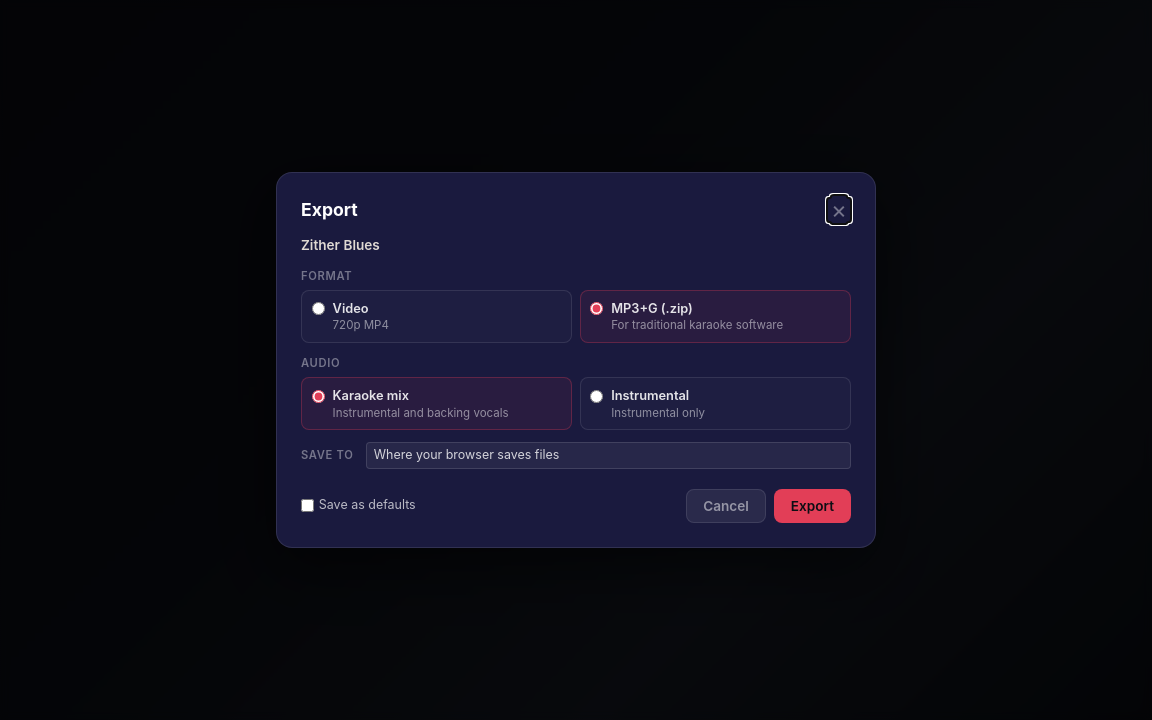
it: browser build › leaves stored defaults alone when the export fails
The image size is (1152, 720).
Click the radio button labelled "Instrumental Instrumental only" at (597, 396), box [590,390,603,402]
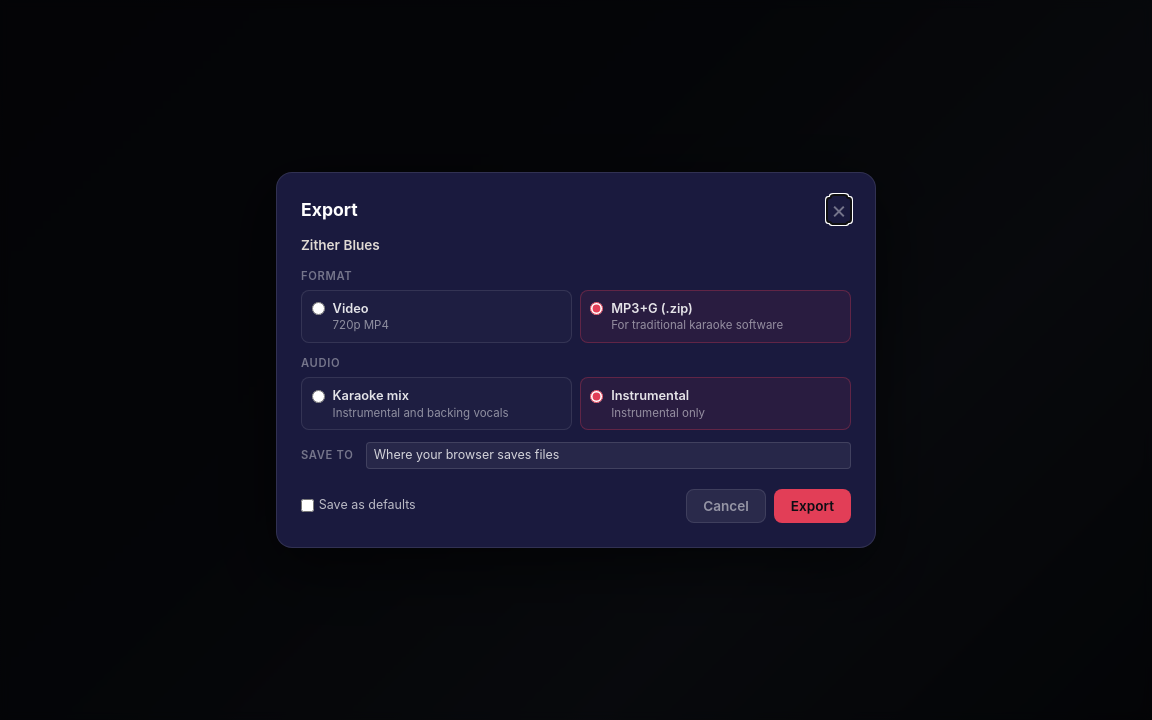
Click the checkbox labelled "Save as defaults" at (308, 506), box [301,499,314,512]
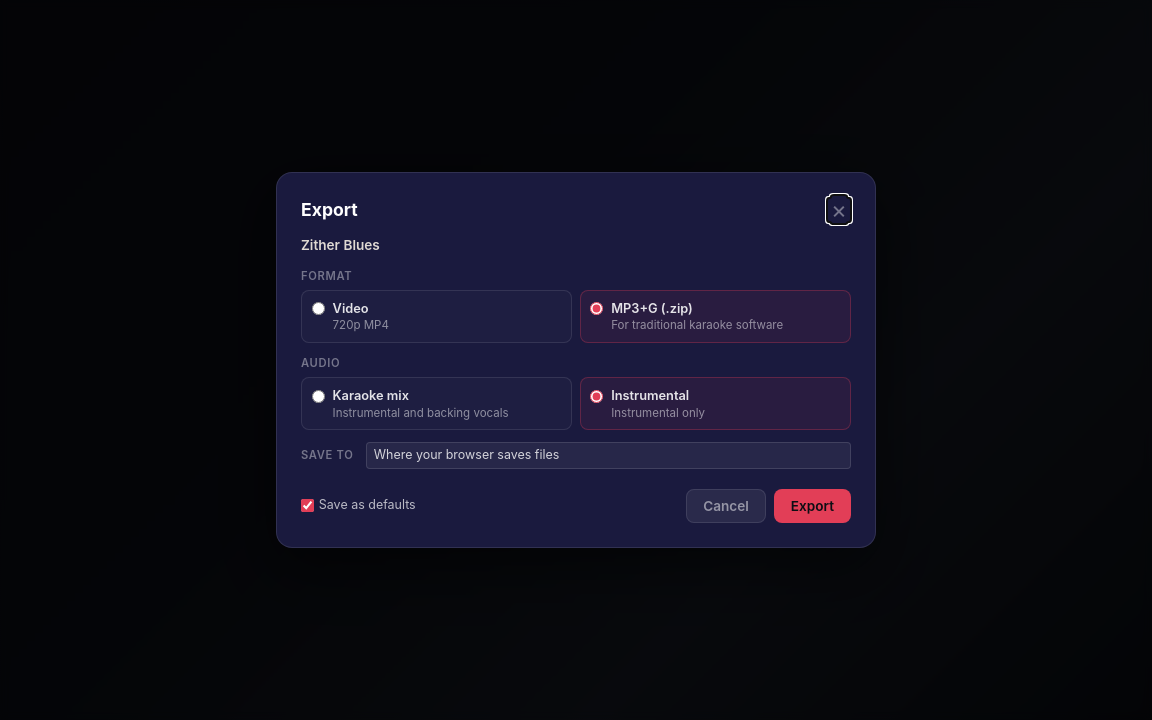
Click the button "Export" at (812, 506), box [774,489,851,523]
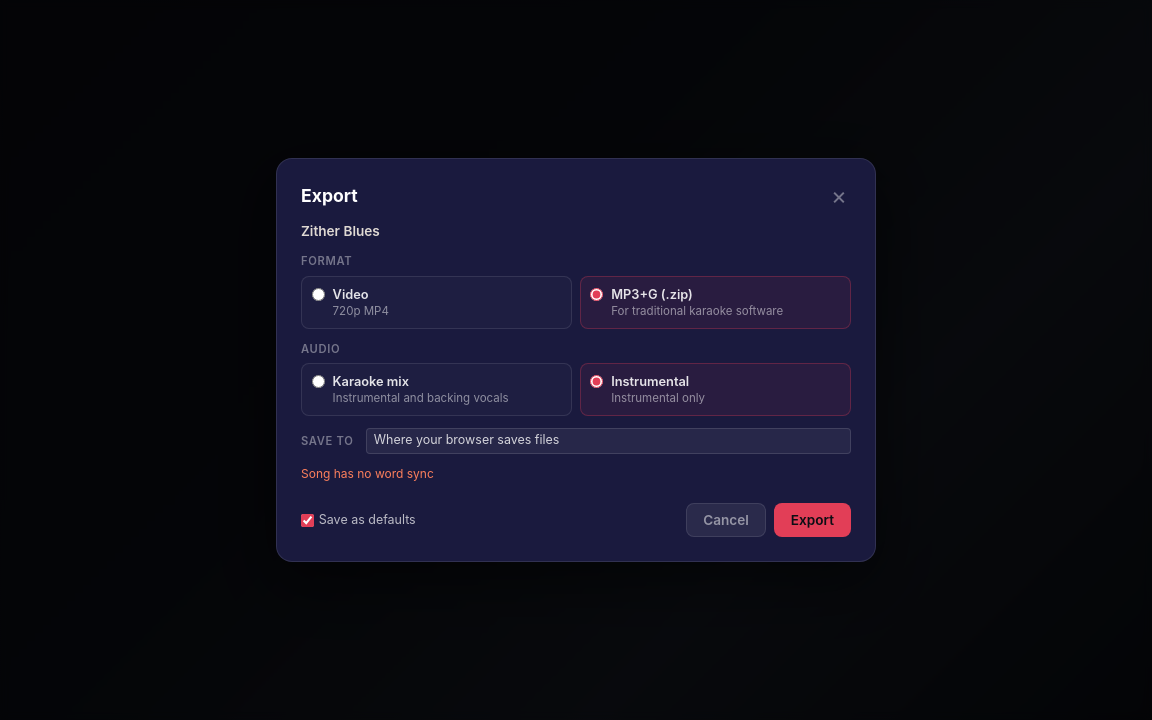
Check: the text with class "export-error" reads "Song has no word sync", box [301,466,434,481]
